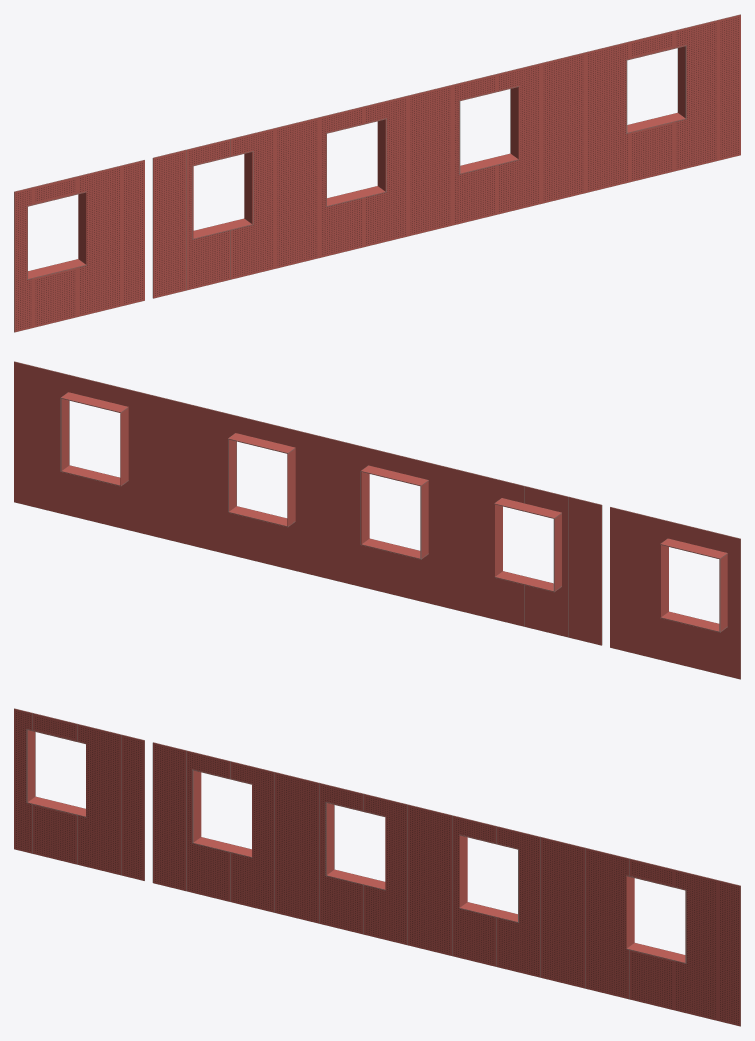
File: modell.glb
The picture shows the model from 3 angles, top to bottom: view 1: azimuth 30°, elevation 25°; view 2: azimuth 150°, elevation 25°; view 3: azimuth 330°, elevation 25°; orthographic projection.
Parts seen in each view (by area): view 1: 2026-196 dansesal; view 2: 2026-196 dansesal; view 3: 2026-196 dansesal.
Boxes of the visible parts, x1=… form: 2026-196 dansesal: x1=14, y1=14, x2=740, y2=332; 2026-196 dansesal: x1=14, y1=361, x2=740, y2=679; 2026-196 dansesal: x1=14, y1=708, x2=740, y2=1026.
Size of the model in its own units: 13106 by 2424 by 253.
Materials: 3 (1 with a texture image).
